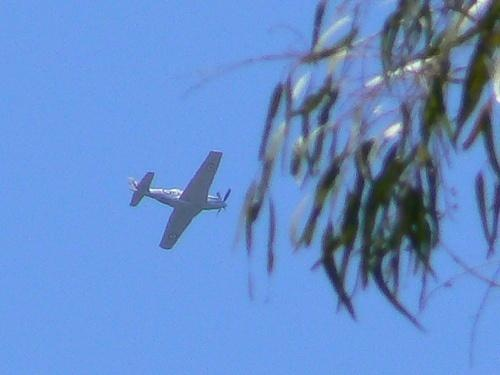aeroplane: (125, 150, 231, 252)
